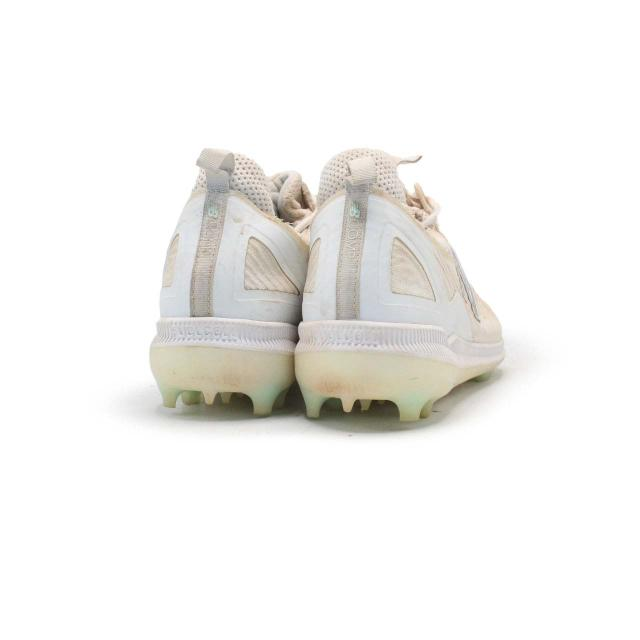heel: (260, 146, 469, 355), (108, 148, 310, 350)
midsole: (296, 349, 501, 421), (147, 345, 293, 415)
